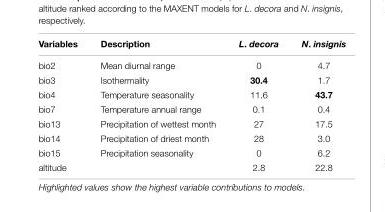table: (37, 37, 345, 172)
table column: (88, 37, 226, 172), (226, 37, 289, 172), (289, 37, 345, 172), (37, 37, 88, 172)
table column header: (37, 37, 345, 53)
table row: (37, 53, 345, 71), (37, 37, 345, 53), (37, 71, 345, 86), (37, 86, 345, 101), (37, 115, 345, 130), (37, 144, 345, 159), (37, 101, 345, 115), (37, 130, 345, 144), (37, 159, 345, 172)
